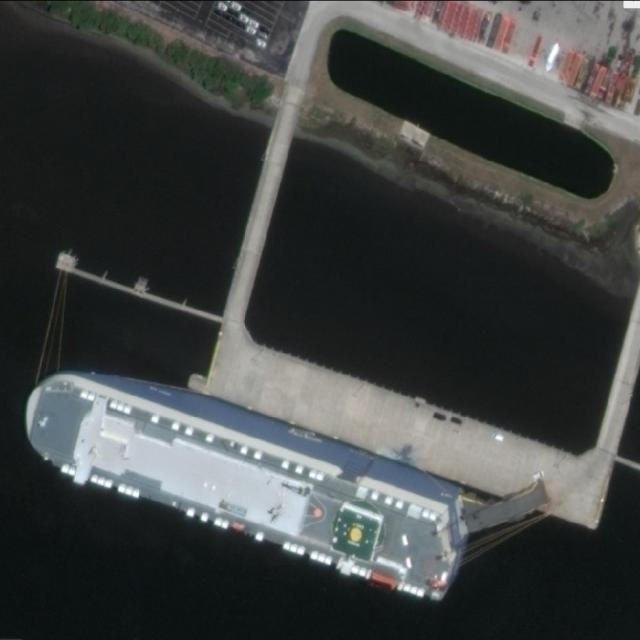RoRo: (6, 348, 485, 607)
